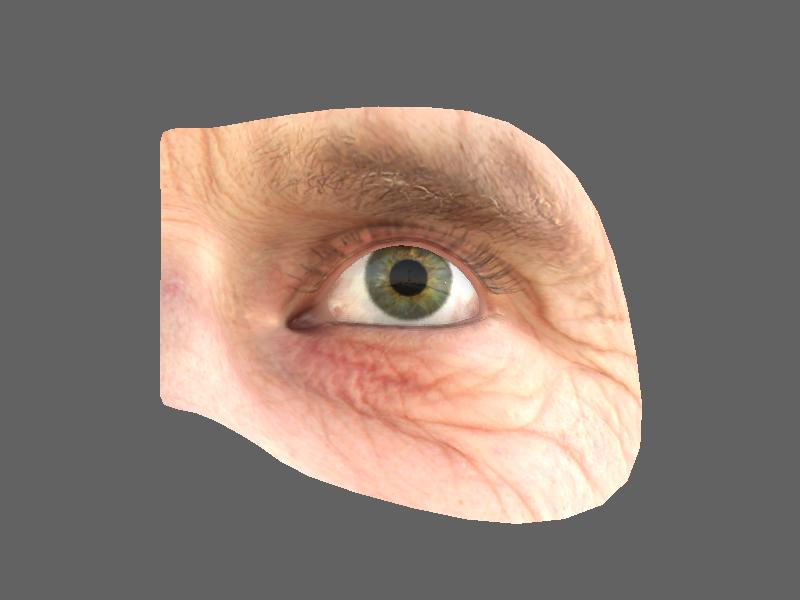iris: (364, 251, 454, 318)
